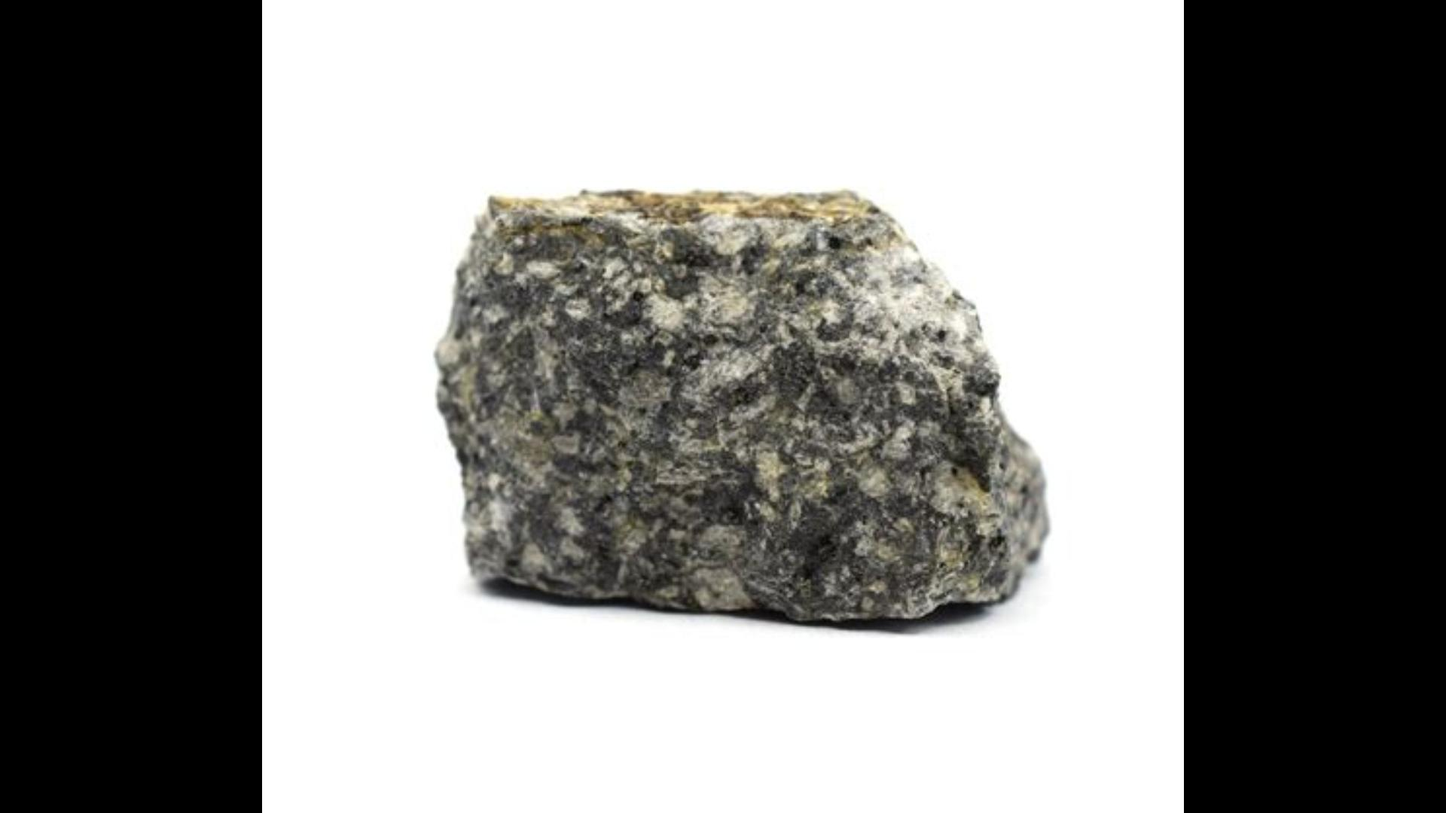rock: (437, 191, 1046, 619)
